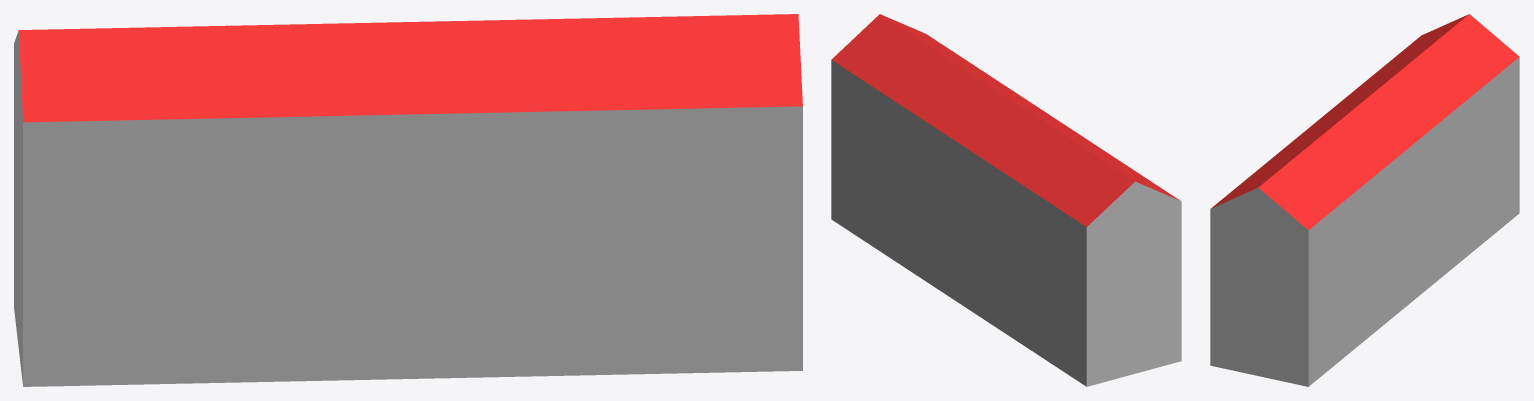
File: pb-9635731c-7f36-11f0-bc33-9c7bef4dcf4c.dae
3 renders of one model, left to right at view 1: azimuth 30°, elevation 25°; view 2: azimuth 150°, elevation 25°; view 3: azimuth 270°, elevation 25°, orthographic. The views are drawn at different scales.
Bounding box in the file's own units: 45.94 × 30.81 × 20.7.
